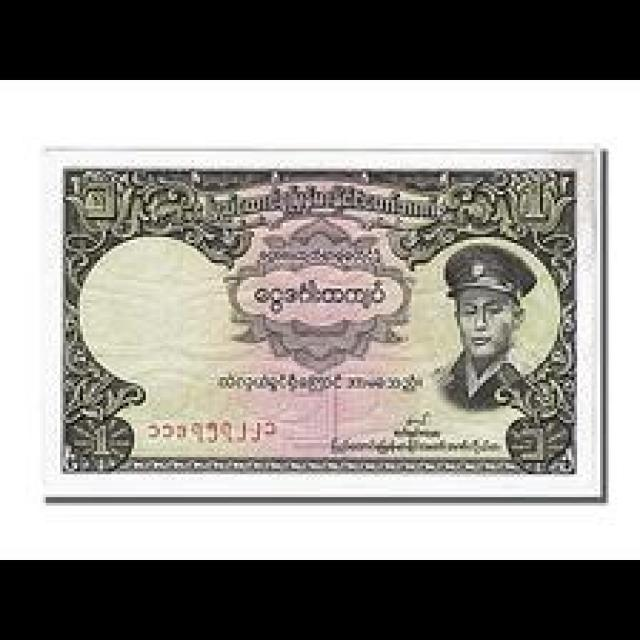banknote: (40, 143, 606, 500)
